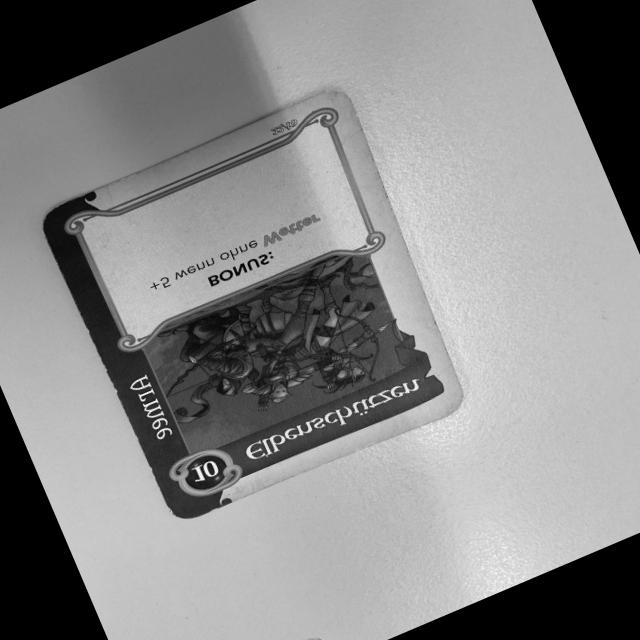Elven Archers: (35, 80, 474, 523)
